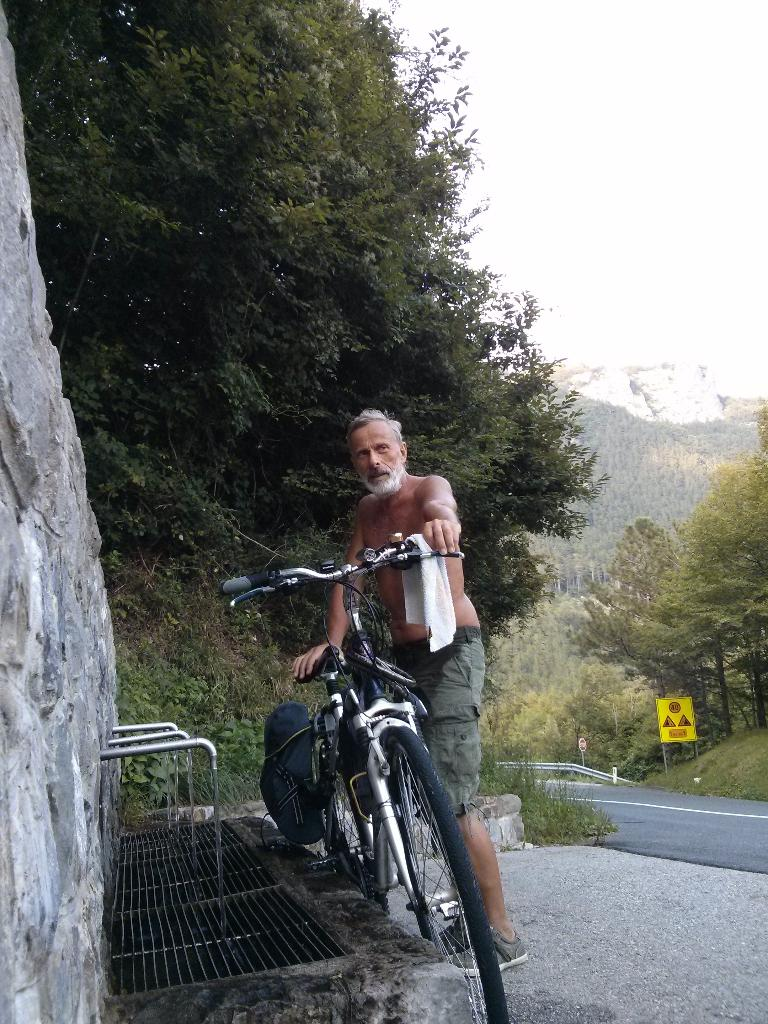Bike: (190, 553, 527, 1024)
